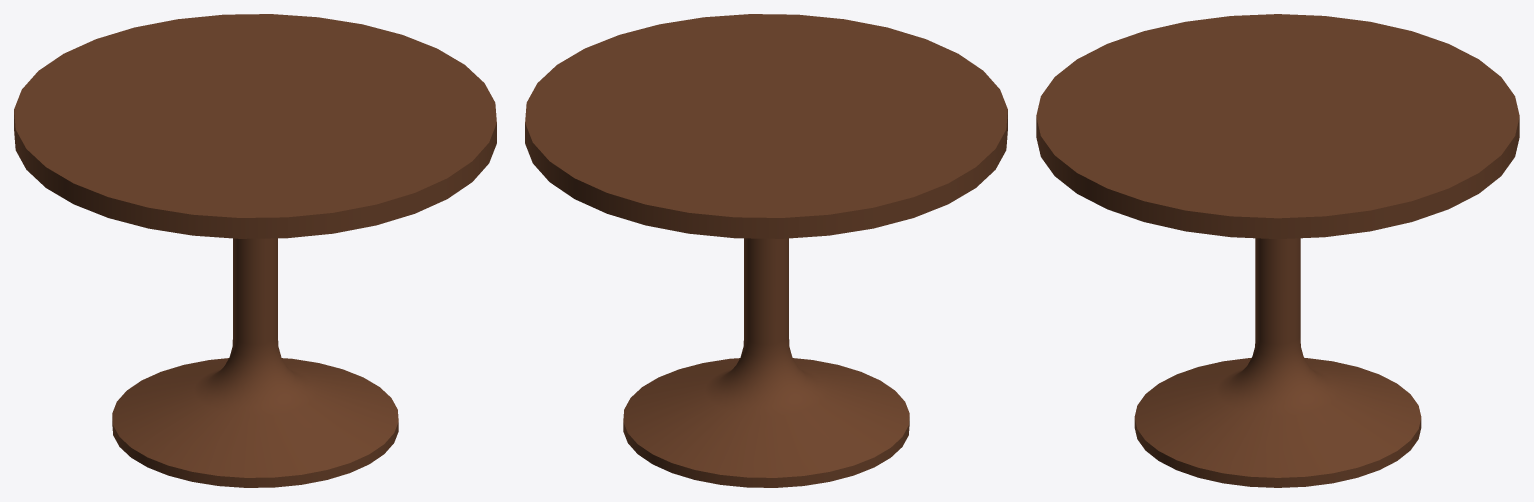
File: TableRonde_2.fbx
3 renders of one model, left to right at view 1: azimuth 30°, elevation 25°; view 2: azimuth 150°, elevation 25°; view 3: azimuth 270°, elevation 25°, orthographic.
Parts seen in each view (by area): view 1: pCylinder1765; view 2: pCylinder1765; view 3: pCylinder1765.
Part boxes in pixels (<box>): pCylinder1765: <box>14,14,496,487</box>; pCylinder1765: <box>525,14,1007,487</box>; pCylinder1765: <box>1036,14,1519,487</box>.
Bounding box in the file's own units: 53.17 × 37.76 × 53.17.
